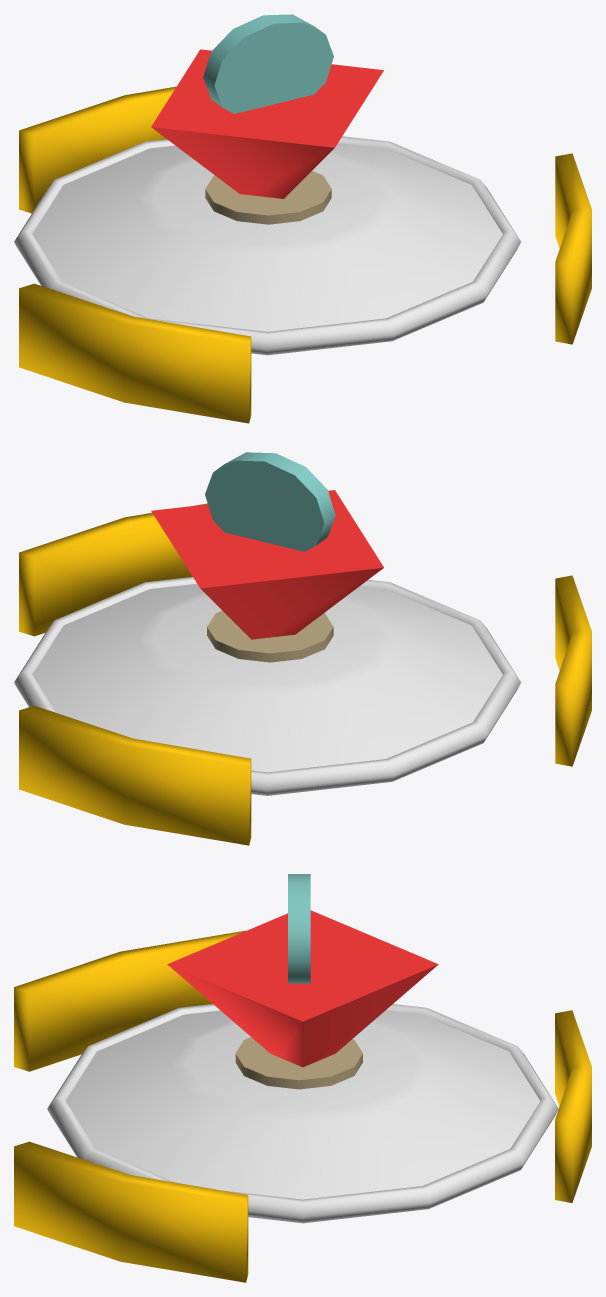
The model's file is UFO3_all.fbx.
The picture shows the model from 3 angles, top to bottom: view 1: azimuth 30°, elevation 25°; view 2: azimuth 150°, elevation 25°; view 3: azimuth 270°, elevation 25°; orthographic projection.
Visible parts, largest first — view 1: Cylinder001, Box001, Cone001; view 2: Cylinder001, Box001, Cone001; view 3: Cylinder001, Box001, Cone001.
Part boxes in pixels (left/top/right/bottom): Cylinder001: left=14, top=136, right=520, bottom=355; Box001: left=19, top=86, right=591, bottom=423; Cone001: left=151, top=14, right=383, bottom=224; Cylinder001: left=14, top=577, right=520, bottom=795; Box001: left=19, top=503, right=591, bottom=845; Cone001: left=151, top=452, right=383, bottom=662; Cylinder001: left=47, top=1004, right=558, bottom=1223; Box001: left=14, top=930, right=591, bottom=1282; Cone001: left=167, top=874, right=438, bottom=1089.
Bounding box in the file's own units: 1020 × 460 × 915.
